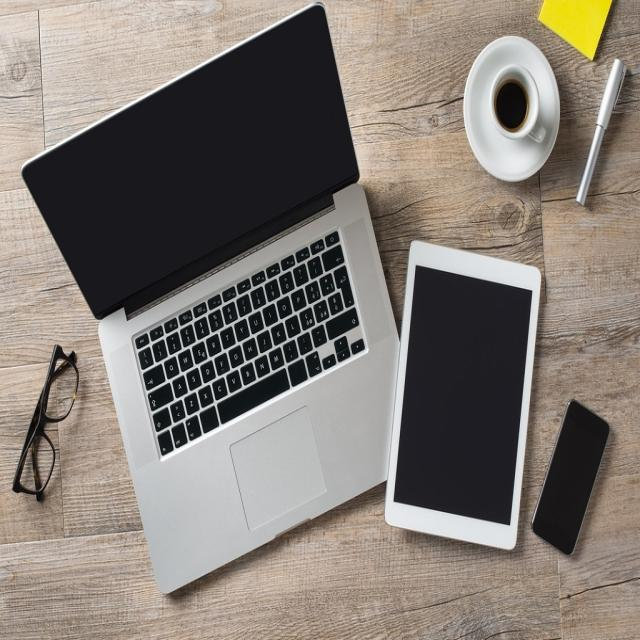E-waste: (24, 8, 637, 604)
